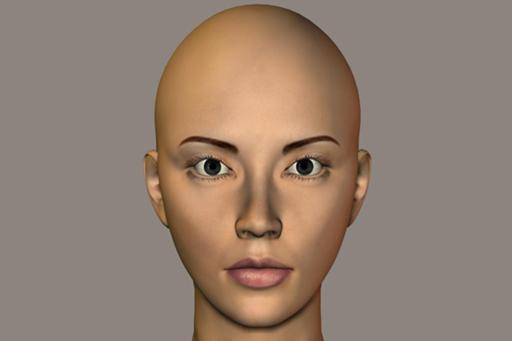left_eye: (282, 159, 333, 184)
left_lip_corner: (284, 264, 300, 276)
right_eye: (185, 159, 237, 182)
right_lip_corner: (222, 264, 238, 277)
